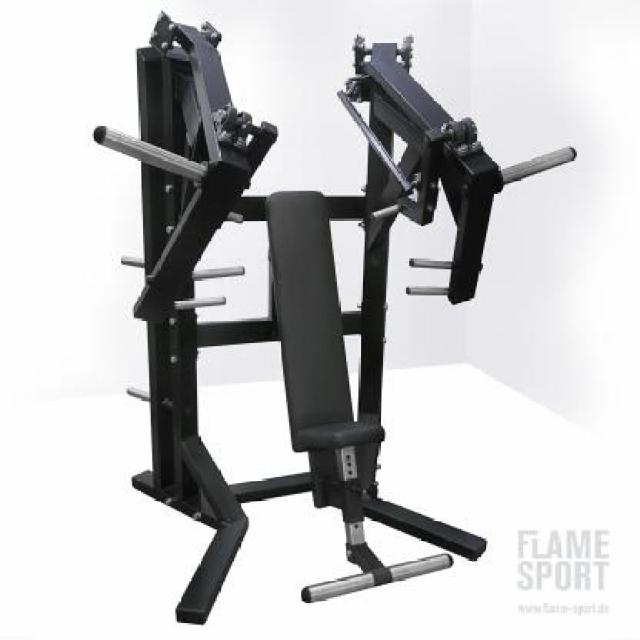Chest Press machine: (86, 3, 582, 640)
